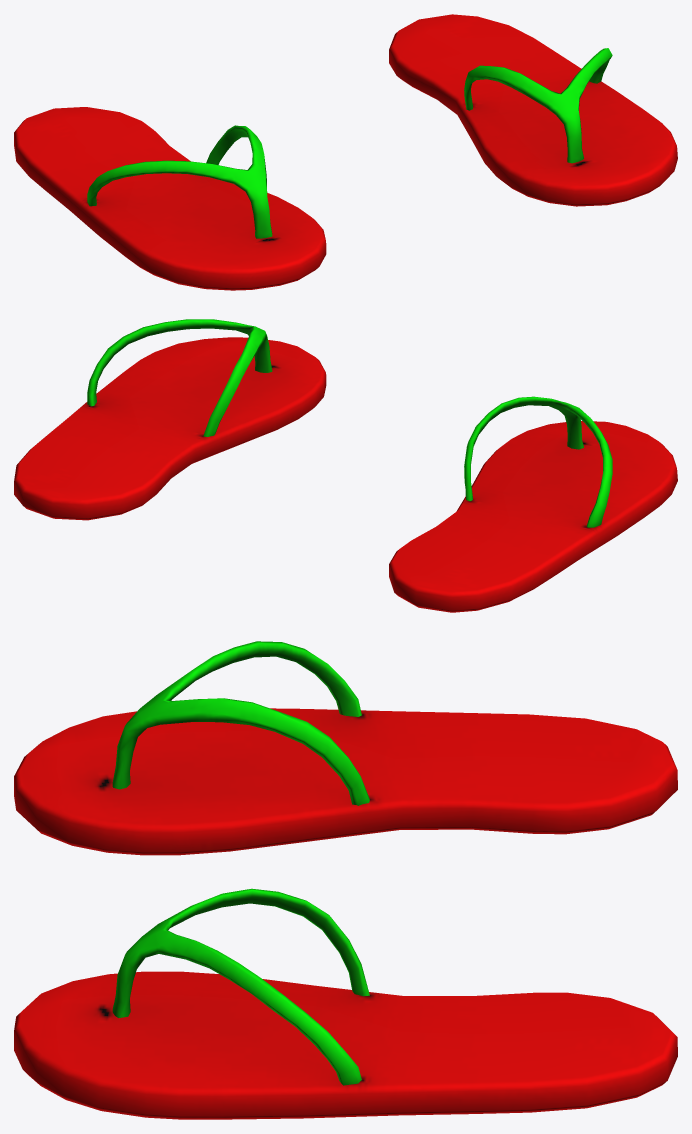
Rendered from BSMC_Outfit_Feet_Sandals.obj.
3 renders of one model, top to bottom at view 1: azimuth 30°, elevation 25°; view 2: azimuth 150°, elevation 25°; view 3: azimuth 270°, elevation 25°, orthographic. The views are drawn at different scales.
Parts seen in each view (by area): view 1: BSMC_Outfit_Feet_Sandals_0; view 2: BSMC_Outfit_Feet_Sandals_0; view 3: BSMC_Outfit_Feet_Sandals_0.
Boxes of the visible parts, box(x1,y1,x2,y2) form: BSMC_Outfit_Feet_Sandals_0: box(14, 14, 677, 290); BSMC_Outfit_Feet_Sandals_0: box(14, 319, 677, 612); BSMC_Outfit_Feet_Sandals_0: box(14, 641, 677, 1119).
Bounding box in the file's own units: 0.3286 × 0.0528 × 0.2387.
Materials: 1 (1 with a texture image).
